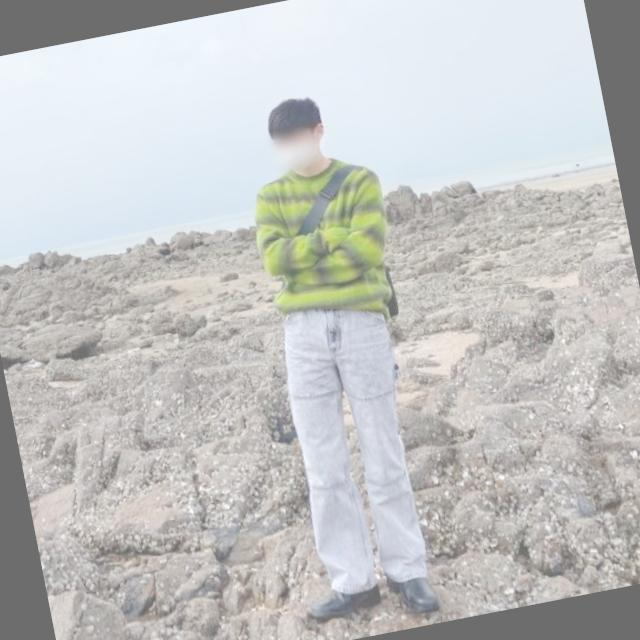denimpants: (272, 294, 439, 600)
sweater: (245, 152, 406, 332)
